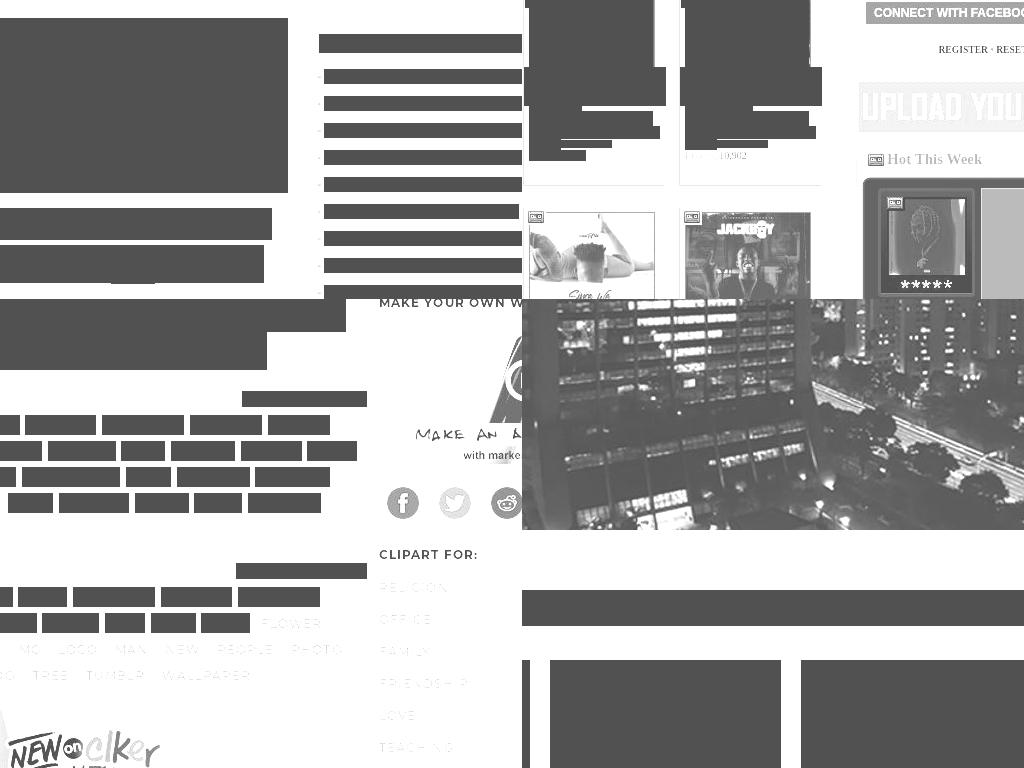button: (0, 18, 288, 193), (550, 660, 781, 768), (801, 660, 1024, 768), (0, 208, 272, 240), (379, 572, 522, 605), (379, 604, 522, 637), (379, 636, 522, 669), (379, 668, 522, 701), (379, 700, 522, 733), (379, 732, 522, 765), (866, 2, 1024, 24), (157, 665, 257, 685), (22, 467, 120, 487), (102, 415, 184, 435), (73, 587, 155, 607), (238, 587, 320, 607), (255, 467, 330, 487), (177, 467, 250, 487), (248, 493, 321, 513), (256, 613, 329, 633), (190, 415, 262, 435), (25, 415, 96, 435), (161, 587, 232, 607), (80, 665, 151, 685), (59, 493, 129, 513), (211, 639, 280, 659), (48, 441, 116, 461), (171, 441, 235, 461), (286, 639, 349, 659), (268, 415, 330, 435), (241, 441, 302, 461), (42, 613, 99, 633), (135, 493, 189, 513), (52, 639, 104, 659), (307, 441, 357, 461), (18, 587, 67, 607), (201, 613, 250, 633), (194, 493, 242, 513), (27, 665, 74, 685), (160, 639, 206, 659), (126, 467, 171, 487), (8, 493, 53, 513), (151, 613, 196, 633), (121, 441, 165, 461), (110, 639, 154, 659), (0, 441, 42, 461), (105, 613, 145, 633), (8, 639, 46, 659), (0, 613, 37, 633), (0, 665, 22, 685), (0, 415, 20, 435), (0, 467, 16, 487), (0, 587, 13, 607)
heading: (379, 583, 522, 768), (522, 590, 1024, 626), (0, 326, 267, 370), (61, 299, 346, 332), (0, 208, 272, 240), (379, 545, 522, 564), (379, 299, 522, 312), (887, 151, 982, 167), (868, 154, 884, 166)
image: (0, 18, 288, 193), (379, 316, 522, 469), (550, 706, 781, 768), (801, 706, 1024, 768), (529, 212, 653, 299), (685, 212, 809, 299), (529, 0, 653, 86), (685, 0, 809, 86), (858, 82, 1024, 132), (887, 197, 963, 273), (529, 126, 660, 139), (685, 126, 816, 139), (387, 487, 419, 520), (439, 487, 471, 520), (491, 487, 522, 520), (560, 140, 612, 148), (716, 140, 768, 148), (901, 280, 952, 288), (528, 211, 546, 225), (684, 211, 702, 225), (887, 197, 905, 211)
link: (550, 660, 781, 707), (801, 660, 1024, 707), (324, 69, 522, 84), (324, 96, 522, 111), (324, 123, 522, 138), (324, 150, 522, 165), (324, 177, 522, 192), (324, 231, 522, 246), (324, 258, 522, 273), (324, 204, 519, 219), (324, 285, 522, 299), (236, 563, 367, 579), (242, 391, 367, 407), (685, 97, 753, 111), (111, 265, 155, 284), (529, 97, 582, 111), (938, 44, 989, 55), (996, 44, 1024, 55)
text: (0, 245, 264, 283), (524, 67, 666, 106), (680, 67, 822, 106), (981, 188, 1024, 299), (319, 34, 522, 53), (529, 111, 653, 126), (685, 111, 809, 126), (529, 150, 563, 161), (685, 150, 719, 161), (529, 139, 561, 150), (685, 139, 717, 150), (719, 150, 748, 161), (563, 150, 586, 161), (988, 44, 997, 55)
